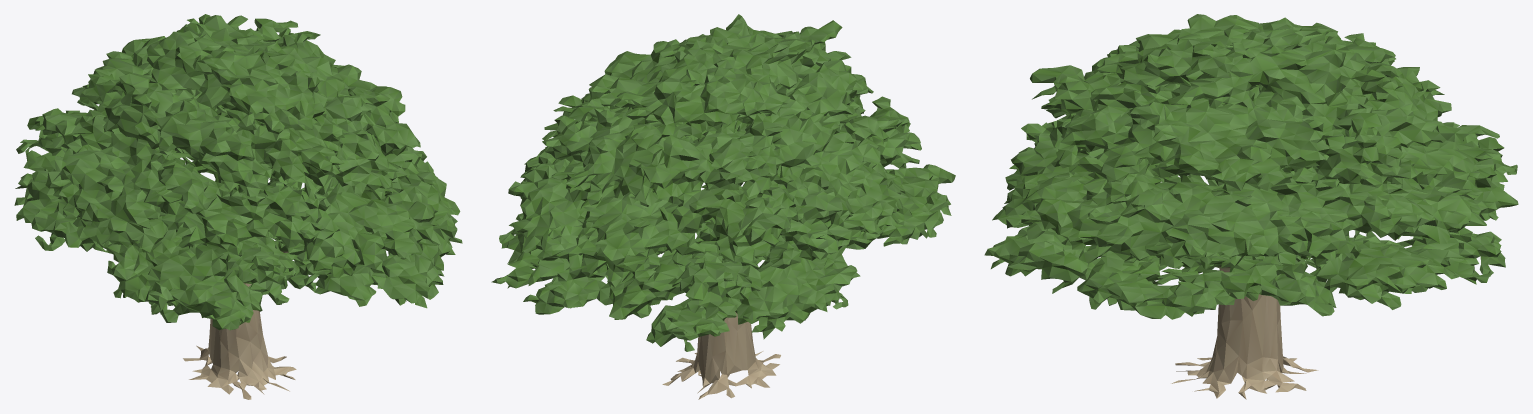
Rendered from teak_tree.glb.
3 renders of one model, left to right at view 1: azimuth 30°, elevation 25°; view 2: azimuth 150°, elevation 25°; view 3: azimuth 270°, elevation 25°, orthographic. The views are drawn at different scales.
Visible parts, largest first — view 1: world; view 2: world; view 3: world.
Boxes of the visible parts, bbox=[...] form: world: bbox=[14, 14, 462, 399]; world: bbox=[491, 14, 955, 399]; world: bbox=[984, 14, 1518, 399].
Size of the model in its own units: 5.41 by 5 by 7.07.
